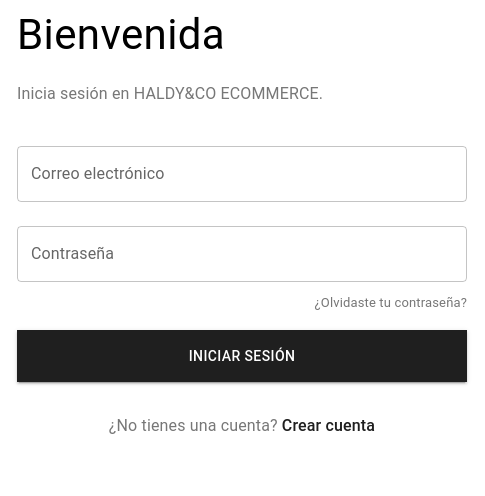
Scenario: Login › shows a generic error when the credentials are rejected
This screenshot has width=485, height=496.
In the field labelled "Correo electrónico": (242, 174) [17,146,467,202], type "cliente@test.com"
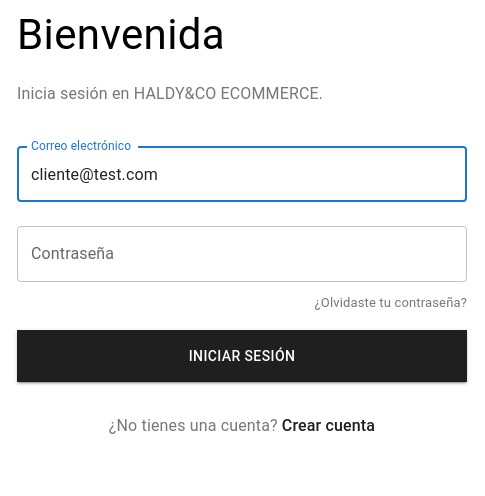
In the password field labelled "Contraseña": (242, 254) [17,226,467,282], type "wrong-password"
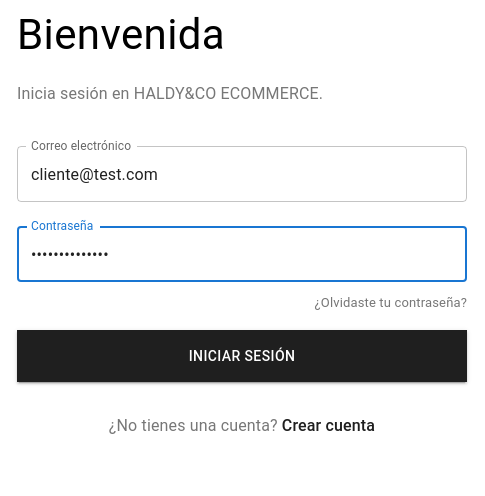
Click the button "Iniciar sesión": (242, 356) [17,330,467,382]
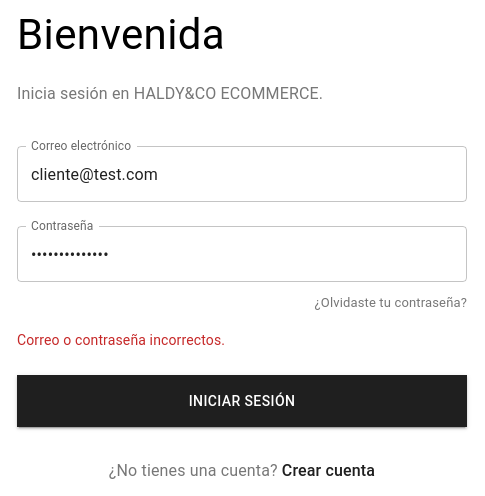
Check: the text "Correo o contraseña incorrectos." is shown, box [17,332,225,348]
